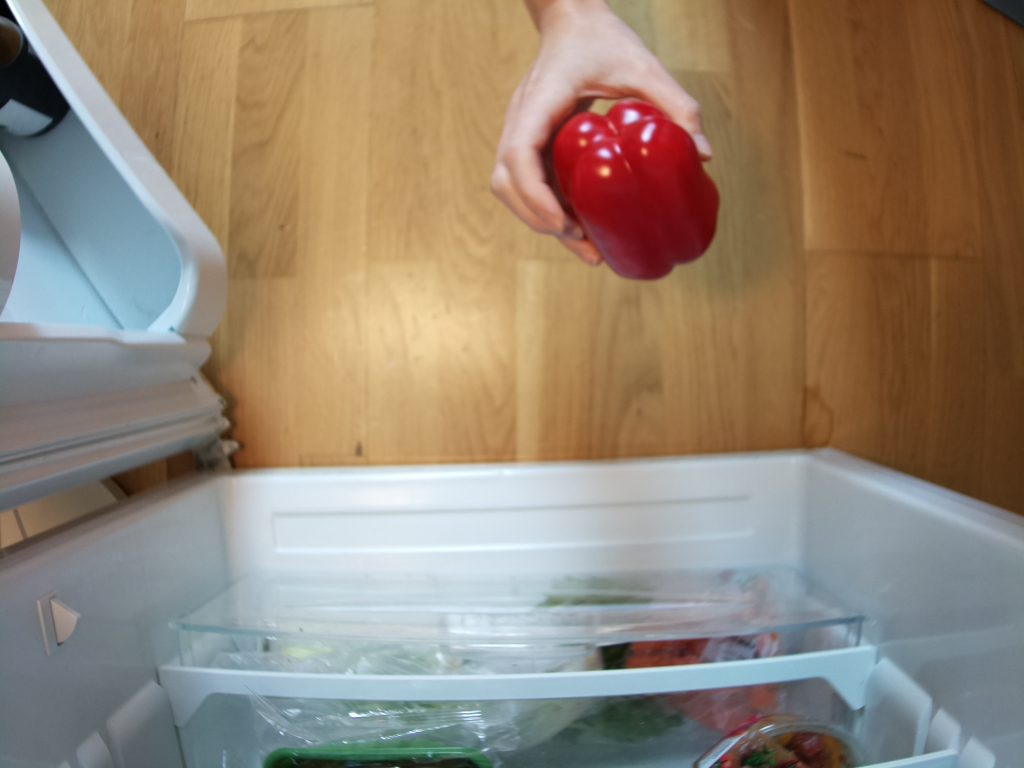pepper: (548, 100, 721, 285)
